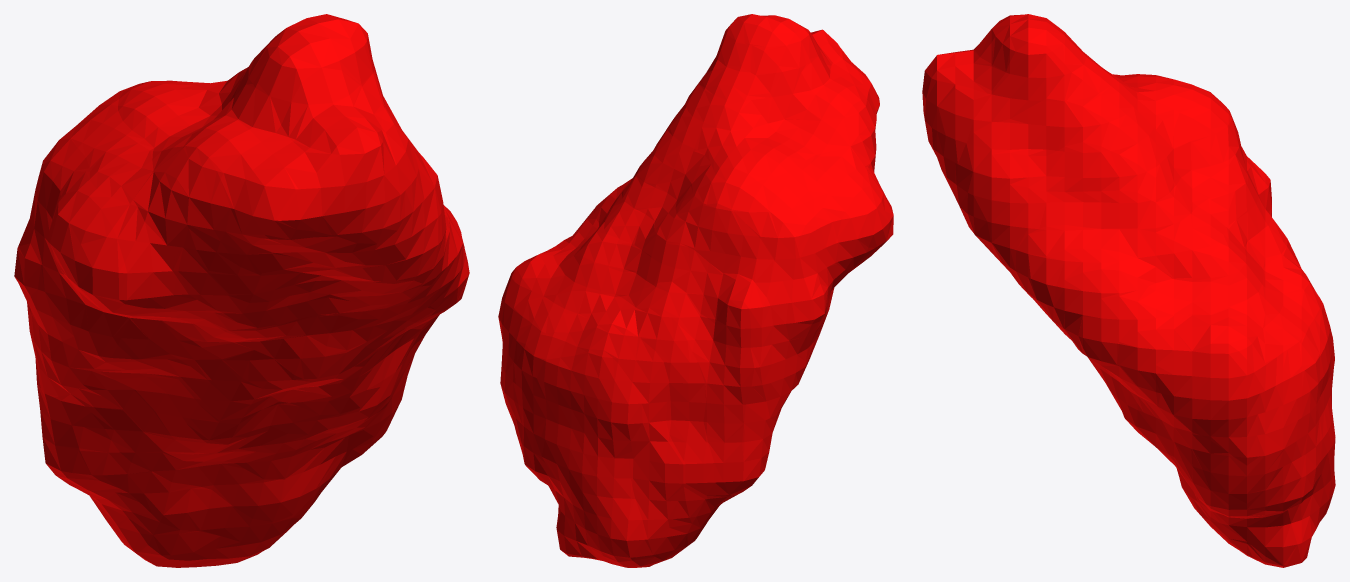
Rendered from phoU_coarse.dae.
The picture shows the model from 3 angles, left to right: view 1: azimuth 30°, elevation 25°; view 2: azimuth 150°, elevation 25°; view 3: azimuth 270°, elevation 25°; orthographic projection. The views are drawn at different scales.
Visible parts, largest first — view 1: phoU; view 2: phoU; view 3: phoU.
Boxes of the visible parts, x1=… form: phoU: x1=14, y1=14, x2=469, y2=567; phoU: x1=498, y1=14, x2=893, y2=567; phoU: x1=922, y1=14, x2=1335, y2=567.
Bounding box in the file's own units: 47.43 × 66.38 × 48.54.
